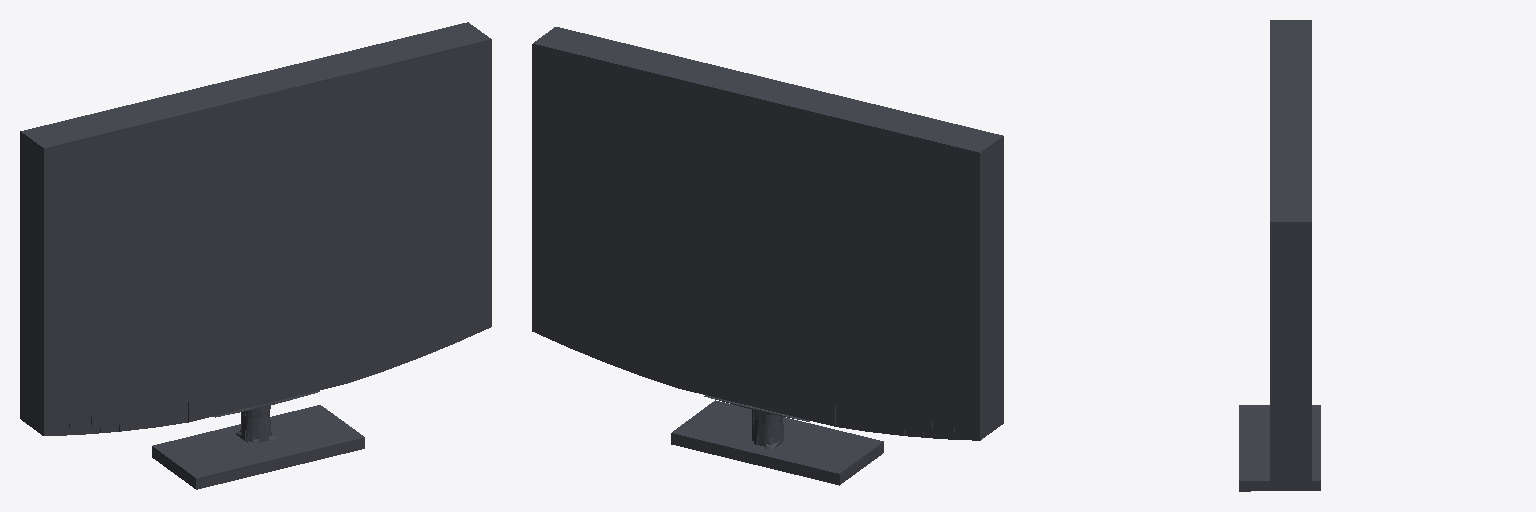
robot.urdf — ../obj/monitor.urdf:
<?xml version="1.0" ?>
<robot name="../obj/monitor.urdf">
  <link name="baseLink">
    <inertial>
      <origin rpy="0 0 0" xyz="-0.0013 0.0104 -0.0213"/>
       <mass value="50"/>
       <inertia ixx="6.262309371403413e-05" ixy="-2.035528652020364e-08" ixz="3.1281589145618155e-07" iyy="0.00018424000534481897" iyz="-4.0229510558928217e-07" izz="0.0001238964807307406"/>
    </inertial>
    <visual>
      <origin rpy="0 0 0" xyz="-0.0013 0.0104 -0.0213"/>
      <geometry>
        <mesh filename="../obj/monitor_vhacd.obj" 
		scale="3.0 3.0 3.0"/>
      </geometry>
     <material name="grey">
      <color rgba="0.32 0.33 0.36 1"/>
     </material>
    </visual>
    <collision>
      <origin rpy="0 0 0" xyz="-0.0013 0.0104 -0.0213"/>
      <geometry>
        <mesh filename="../obj/monitor_vhacd.obj" scale="3.0 3.0 3.0"/>
      </geometry>
    </collision>
  </link>
</robot>
        

--- What the picture shows (computed from the rendered views, not written in the file) ---
Views: 3 orthographic renders of the robot side by side, from view 1: azimuth 30°, elevation 25°; view 2: azimuth 150°, elevation 25°; view 3: azimuth 270°, elevation 25°.
Model ../obj/monitor.urdf with 1 links and 0 joints (none), rooted at baseLink, posed all joints at 0.
Visible links, largest first — view 1: baseLink; view 2: baseLink; view 3: baseLink.
Boxes of the visible links, box(x1,y1,x2,y2) form: baseLink: box(20, 22, 491, 489); baseLink: box(532, 27, 1003, 485); baseLink: box(1239, 20, 1320, 491).
Bounding box of the posed robot: 1.44 × 0.248 × 1.11 m (x, y, z).
Meshes: 1 distinct files referenced, 1 mesh visuals loaded (1 OBJ).